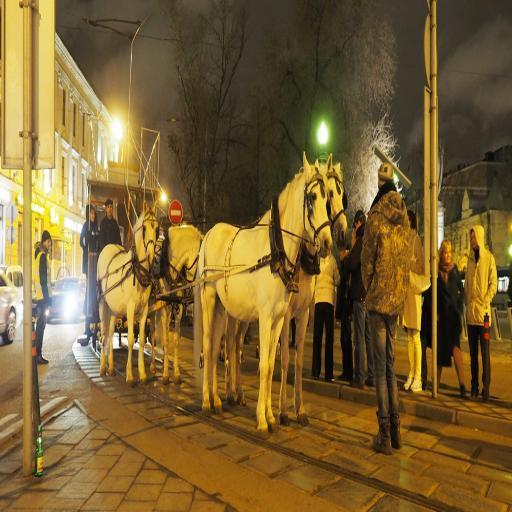horse: (192, 152, 332, 435), (223, 152, 349, 425), (96, 199, 160, 392), (148, 222, 203, 382)
